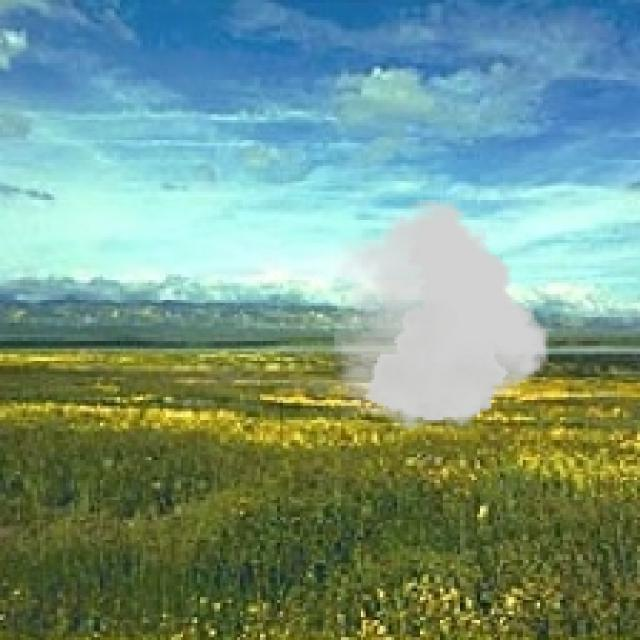smoke: (334, 200, 549, 431)
